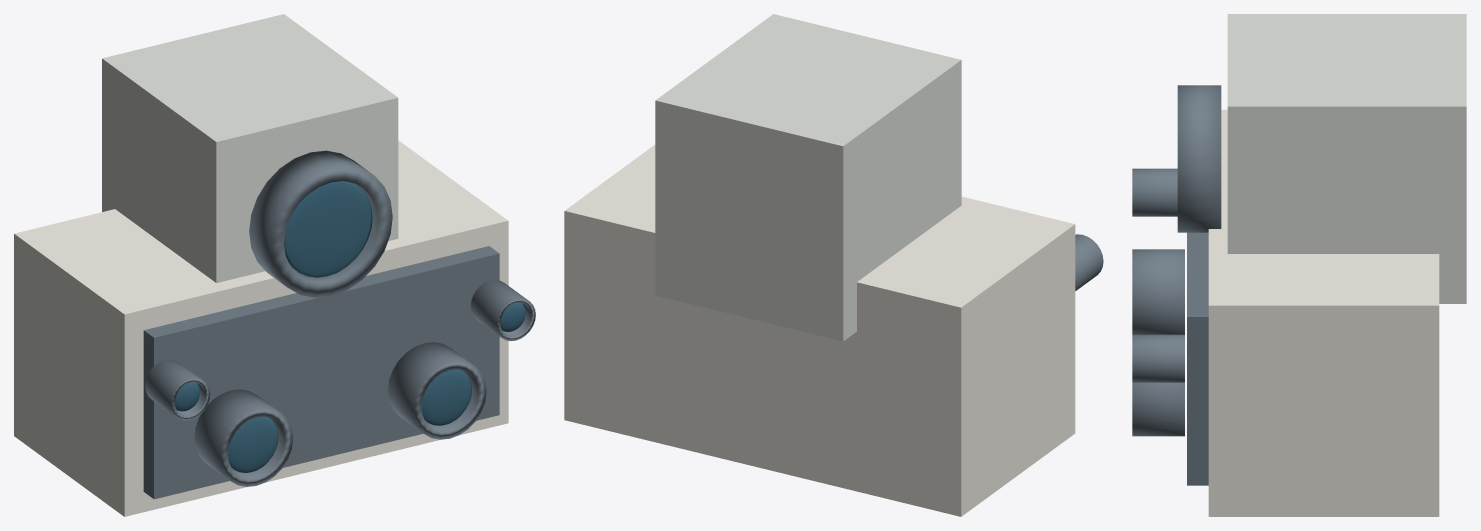
Rendered from perseverance_mast.deployment.azimuth.head.glb.
3 renders of one model, left to right at view 1: azimuth 30°, elevation 25°; view 2: azimuth 150°, elevation 25°; view 3: azimuth 270°, elevation 25°, orthographic. The views are drawn at different scales.
Visible parts, largest first — view 1: perseverance_mast.deployment.azimuth.head.mesh_Warm_white_en, perseverance_mast.deployment.azimuth.head.supercam.mesh_Pale, perseverance_mast.deployment.azimuth.head.mesh_Machined_stee, perseverance_mast.deployment.azimuth.head.supercam.telescope (×2), perseverance_mast.deployment.azimuth.head.mastcam_z_r.mesh_M, perseverance_mast.deployment.azimuth.head.mastcam_z_l.mesh_M, perseverance_mast.deployment.azimuth.head.navcam_l.mesh_Mach, perseverance_mast.deployment.azimuth.head.navcam_r.mesh_Mach, perseverance_mast.deployment.azimuth.head.mastcam_z_l.lens.m, perseverance_mast.deployment.azimuth.head.mastcam_z_r.lens.m; view 2: perseverance_mast.deployment.azimuth.head.mesh_Warm_white_en, perseverance_mast.deployment.azimuth.head.supercam.mesh_Pale, perseverance_mast.deployment.azimuth.head.navcam_l.mesh_Mach; view 3: perseverance_mast.deployment.azimuth.head.mesh_Warm_white_en, perseverance_mast.deployment.azimuth.head.supercam.mesh_Pale, perseverance_mast.deployment.azimuth.head.supercam.telescope, perseverance_mast.deployment.azimuth.head.mesh_Machined_stee, perseverance_mast.deployment.azimuth.head.mastcam_z_l.mesh_M, perseverance_mast.deployment.azimuth.head.mastcam_z_r.mesh_M, perseverance_mast.deployment.azimuth.head.navcam_r.mesh_Mach, perseverance_mast.deployment.azimuth.head.navcam_l.mesh_Mach.
Boxes of the visible parts, x1=… form: perseverance_mast.deployment.azimuth.head.mesh_Warm_white_en: x1=14, y1=140, x2=508, y2=516; perseverance_mast.deployment.azimuth.head.supercam.mesh_Pale: x1=102, y1=14, x2=398, y2=282; perseverance_mast.deployment.azimuth.head.mesh_Machined_stee: x1=143, y1=246, x2=499, y2=499; perseverance_mast.deployment.azimuth.head.supercam.telescope (×2): x1=249, y1=150, x2=392, y2=297; perseverance_mast.deployment.azimuth.head.mastcam_z_r.mesh_M: x1=387, y1=342, x2=486, y2=439; perseverance_mast.deployment.azimuth.head.mastcam_z_l.mesh_M: x1=194, y1=389, x2=292, y2=486; perseverance_mast.deployment.azimuth.head.navcam_l.mesh_Mach: x1=145, y1=359, x2=210, y2=420; perseverance_mast.deployment.azimuth.head.navcam_r.mesh_Mach: x1=470, y1=280, x2=535, y2=341; perseverance_mast.deployment.azimuth.head.mastcam_z_l.lens.m: x1=228, y1=417, x2=278, y2=472; perseverance_mast.deployment.azimuth.head.mastcam_z_r.lens.m: x1=421, y1=369, x2=471, y2=425; perseverance_mast.deployment.azimuth.head.mesh_Warm_white_en: x1=564, y1=145, x2=1075, y2=516; perseverance_mast.deployment.azimuth.head.supercam.mesh_Pale: x1=655, y1=14, x2=961, y2=341; perseverance_mast.deployment.azimuth.head.navcam_l.mesh_Mach: x1=1075, y1=234, x2=1103, y2=290; perseverance_mast.deployment.azimuth.head.mesh_Warm_white_en: x1=1208, y1=109, x2=1439, y2=516; perseverance_mast.deployment.azimuth.head.supercam.mesh_Pale: x1=1227, y1=14, x2=1466, y2=303; perseverance_mast.deployment.azimuth.head.supercam.telescope: x1=1177, y1=85, x2=1221, y2=232; perseverance_mast.deployment.azimuth.head.mesh_Machined_stee: x1=1187, y1=232, x2=1208, y2=485; perseverance_mast.deployment.azimuth.head.mastcam_z_l.mesh_M: x1=1132, y1=249, x2=1184, y2=334; perseverance_mast.deployment.azimuth.head.mastcam_z_r.mesh_M: x1=1132, y1=382, x2=1184, y2=436; perseverance_mast.deployment.azimuth.head.navcam_r.mesh_Mach: x1=1132, y1=334, x2=1184, y2=382; perseverance_mast.deployment.azimuth.head.navcam_l.mesh_Mach: x1=1132, y1=168, x2=1177, y2=216.
Bounding box in the file's own units: 0.5 × 0.4275 × 0.361.
